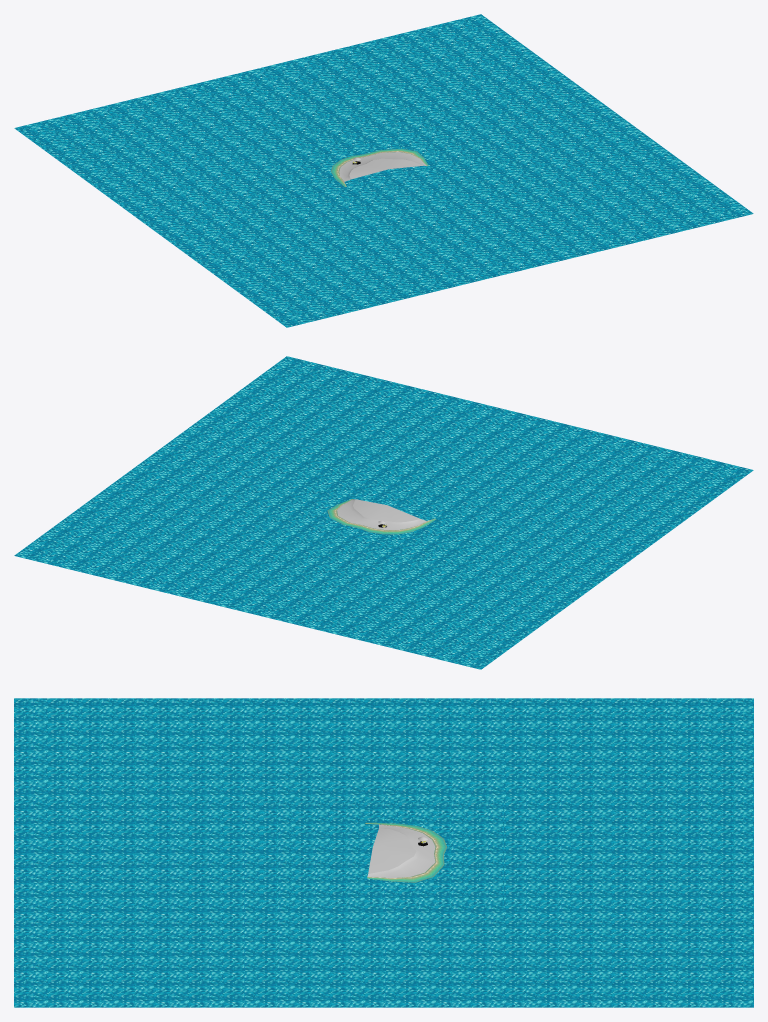
File: MainMenu.obj
3 views of the same model, one above another, from view 1: azimuth 30°, elevation 25°; view 2: azimuth 150°, elevation 25°; view 3: azimuth 270°, elevation 25° (orthographic). The views are drawn at different scales.
Bounding box in the file's own units: 2641 × 97.83 × 2671.
